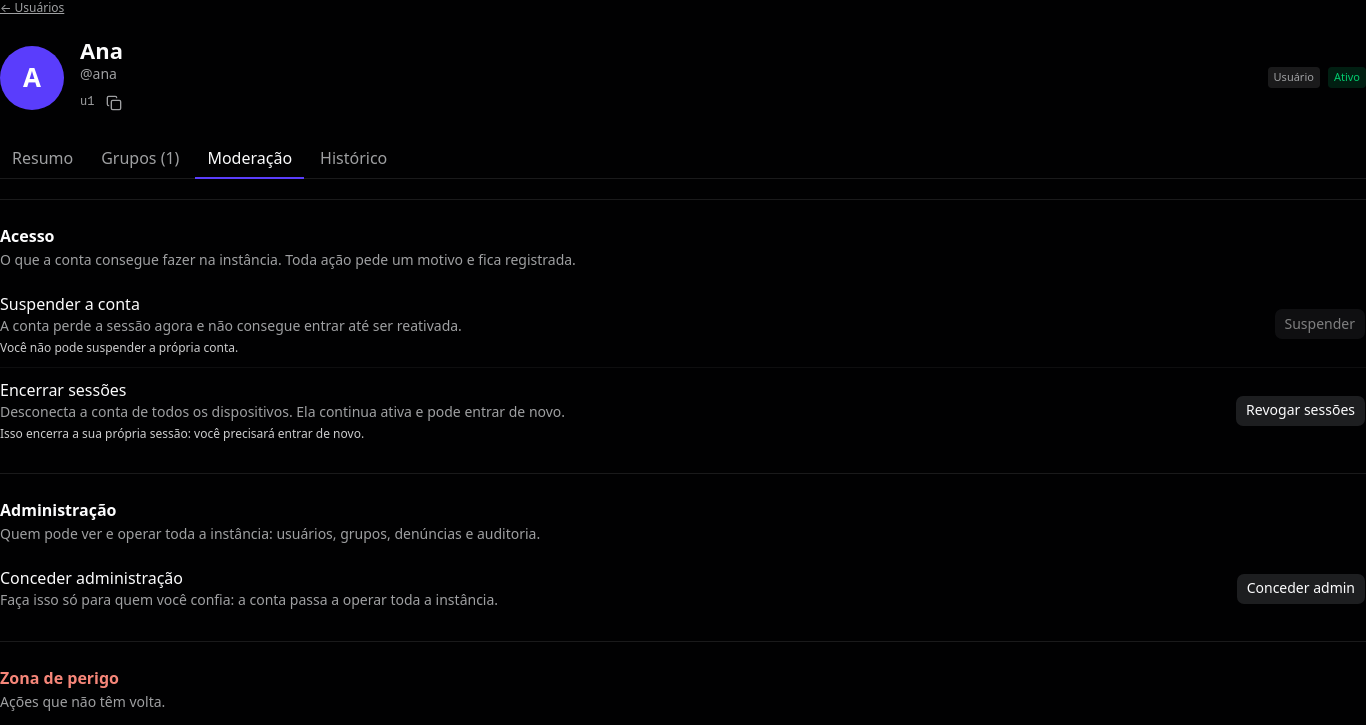
Test: UserDetailPage › revoking your OWN sessions ends this session: say so instead of re-reading into a 401
The width and height of the screenshot is (1366, 725).
Click the button "Revogar sessões" at (1301, 410), box [1235,394,1365,426]
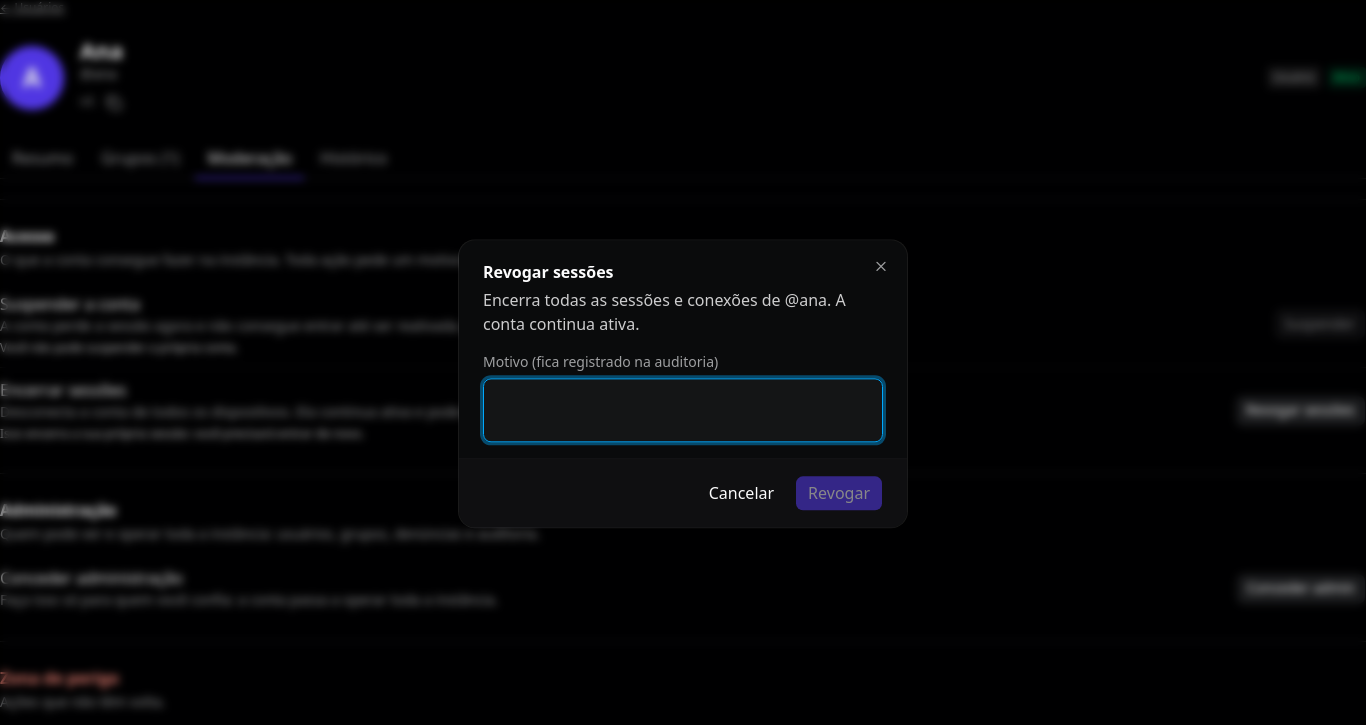
Type "testing logout" into the text box labelled "Motivo (fica registrado na auditoria)" at (683, 411), box [483,379,883,443]
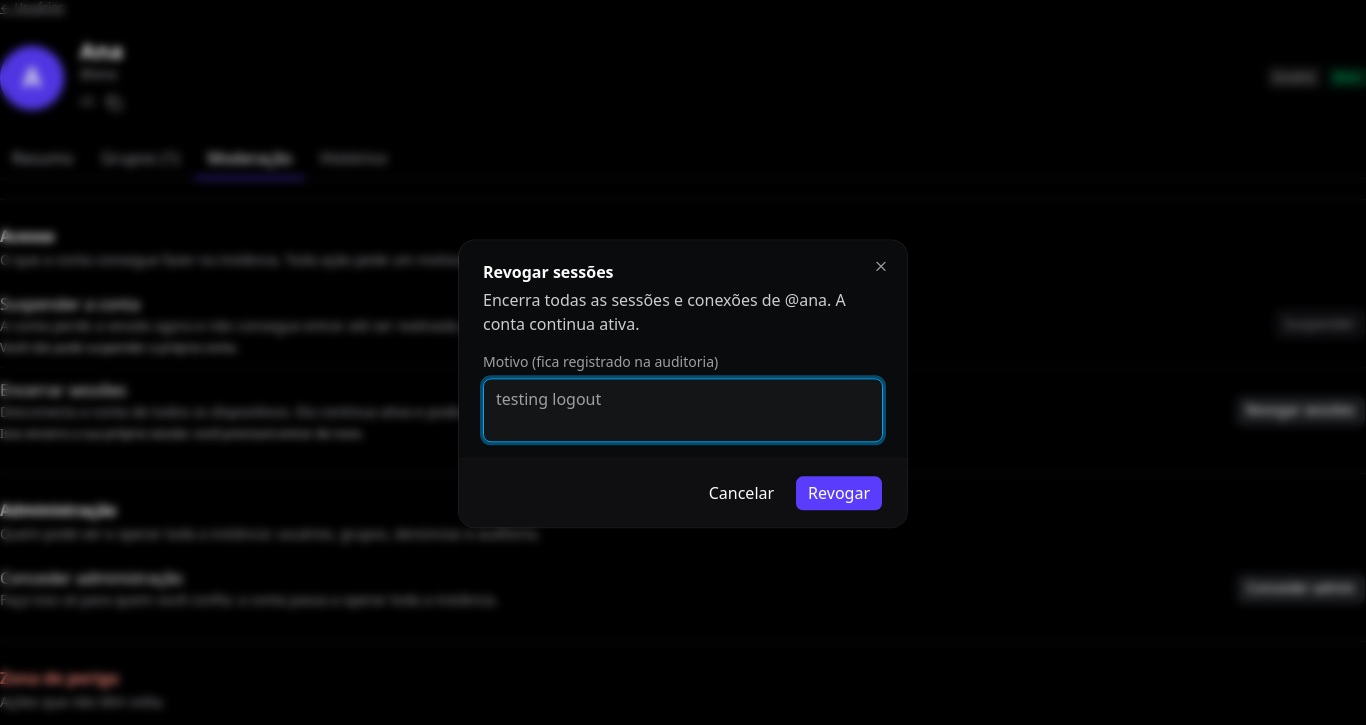
Click the button "Revogar" at (839, 494), box [795,476,883,512]
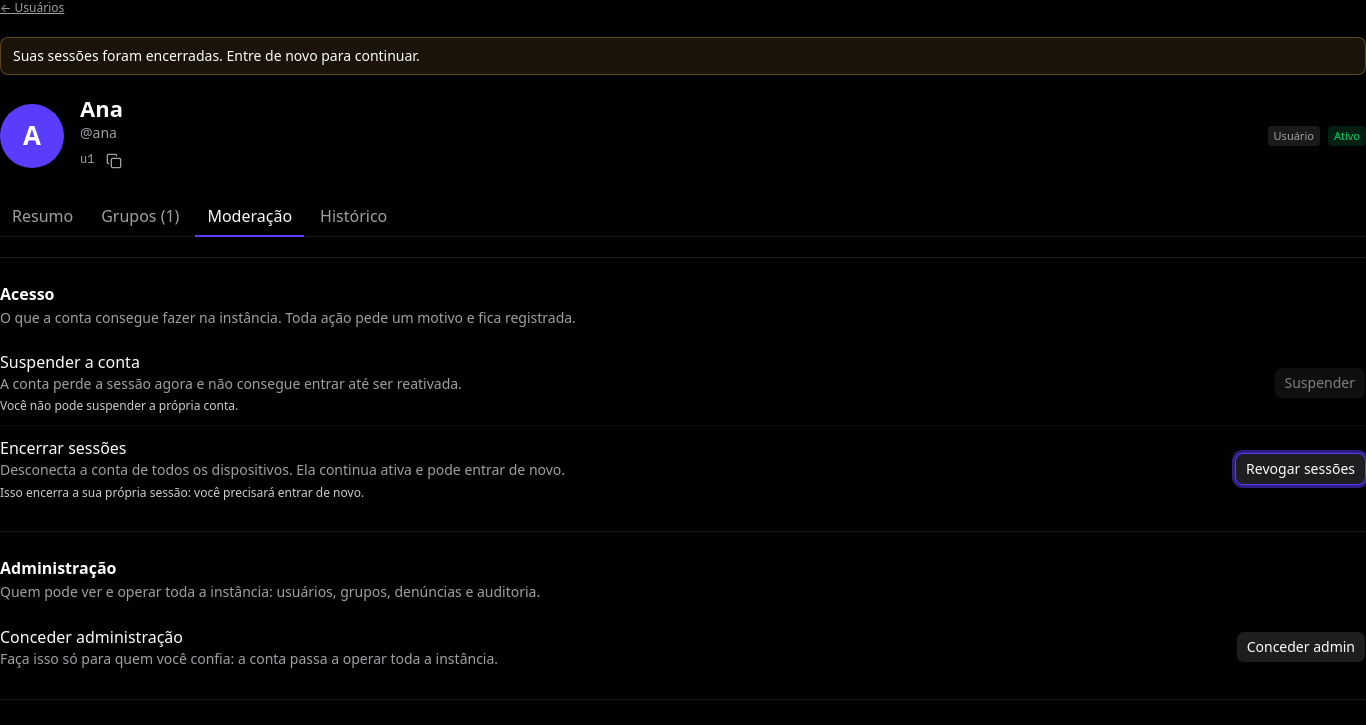
Check: the message shows "Suas sessões foram encerradas", box [13,46,420,65]
